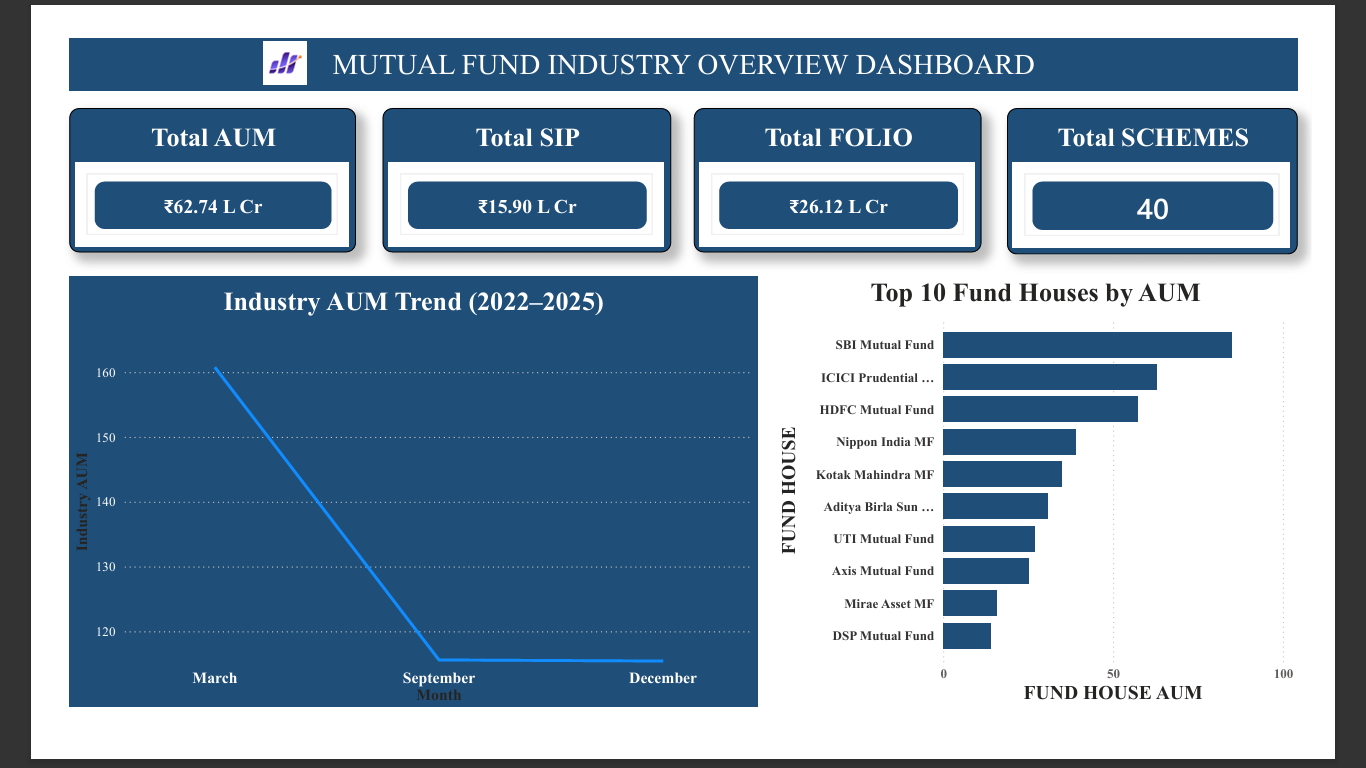

What the dashboard file says about the page in this screenshot:
{"tool":"powerbi","page":{"name":"Industry Overview","canvas":[1280,720],"ordinal":0},"visuals":[{"type":"cardVisual","title":"Total AUM ","fields":{"Data":["aum_by_fund_house_clean.Total AUM Display"]},"box":[15.1,81.2,291.8,147.3],"z":0},{"type":"cardVisual","title":"Total FOLIO","fields":{"Data":["industry_folio_count_clean.Total FOLIO"]},"box":[651,81.2,293.2,147.3],"z":1000},{"type":"cardVisual","title":"Total SIP ","fields":{"Data":["monthly_sip_inflows_clean.Total SIP"]},"box":[334.5,81.2,293.2,147.3],"z":2000},{"type":"cardVisual","title":"Total SCHEMES","fields":{"Data":["fund_master_clean.Total Schemes"]},"box":[970.3,81.2,295.9,148.6],"z":3000},{"type":"textbox","title":"MUTUAL FUND INDUSTRY OVERVIEW DASHBOARD","box":[15.1,9.6,1251.1,53.7],"z":4000},{"type":"lineChart","title":"Industry AUM Trend (2022–2025)","fields":{"Y":["aum_by_fund_house_clean.Industry AUM"],"Category":["aum_by_fund_house_clean.date.Variation.Date Hierarchy.Year","aum_by_fund_house_clean.date.Variation.Date Hierarchy.Month"]},"box":[15.1,253.2,700.6,439.1],"z":5000},{"type":"clusteredBarChart","title":"Top 10 Fund Houses by AUM","fields":{"Category":["aum_by_fund_house_clean.fund_house"],"Y":["aum_by_fund_house_clean.Fund House AUM"]},"box":[732.2,253.2,534,439.1],"z":6000},{"type":"image","box":[201.7,13.4,65.7,43.3],"z":7000}]}

Visuals, with their boxes in screenshot pixels (x1, y1, x2, y2), scaled from the page's 1280x720 canvas onto the 1366x768 screenshot:
"Total AUM " cardVisual: 16, 87, 328, 244
"Total FOLIO" cardVisual: 695, 87, 1008, 244
"Total SIP " cardVisual: 357, 87, 670, 244
"Total SCHEMES" cardVisual: 1035, 87, 1351, 245
"MUTUAL FUND INDUSTRY OVERVIEW DASHBOARD" textbox: 16, 10, 1351, 68
"Industry AUM Trend (2022–2025)" lineChart: 16, 270, 764, 738
"Top 10 Fund Houses by AUM" clusteredBarChart: 781, 270, 1351, 738
image: 215, 14, 285, 60
